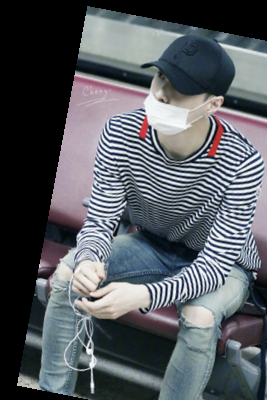mask_weared_incorrect: (139, 33, 239, 139)
